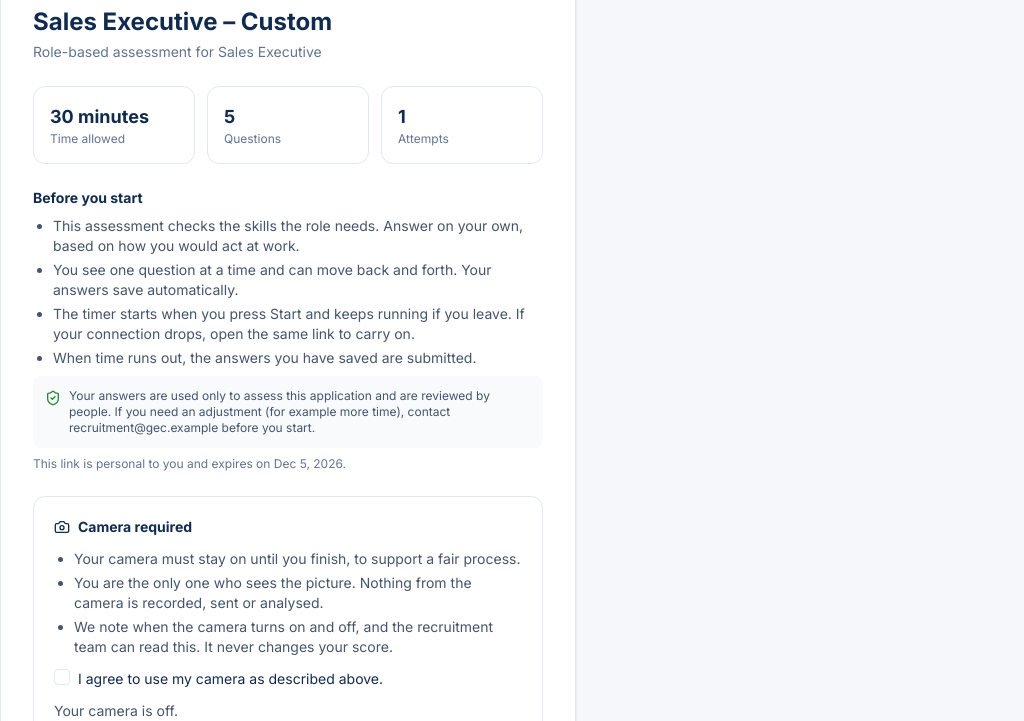
Test: Candidate pages › explains a blocked camera and offers another arrangement
The width and height of the screenshot is (1024, 721).
Step 1. Click the checkbox named "I agree to use my camera" → [62, 677], box x1=54 y1=669 x2=70 y2=685
(page scrolled)
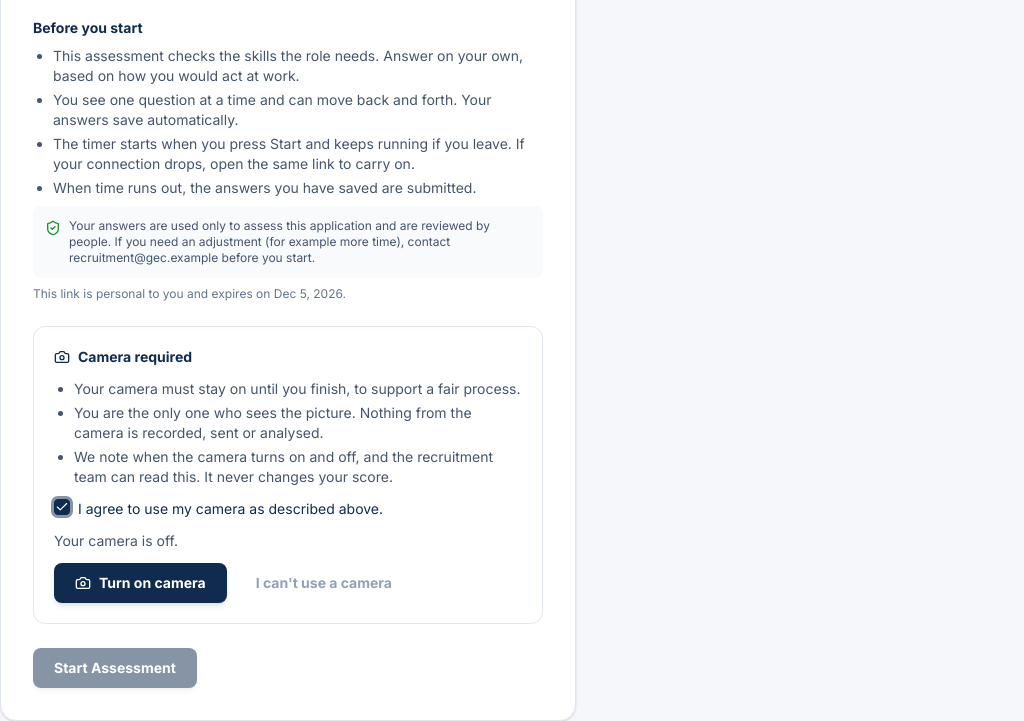
Step 2. Click the button "Turn on camera" → [140, 583], box x1=54 y1=563 x2=227 y2=603
(page scrolled)
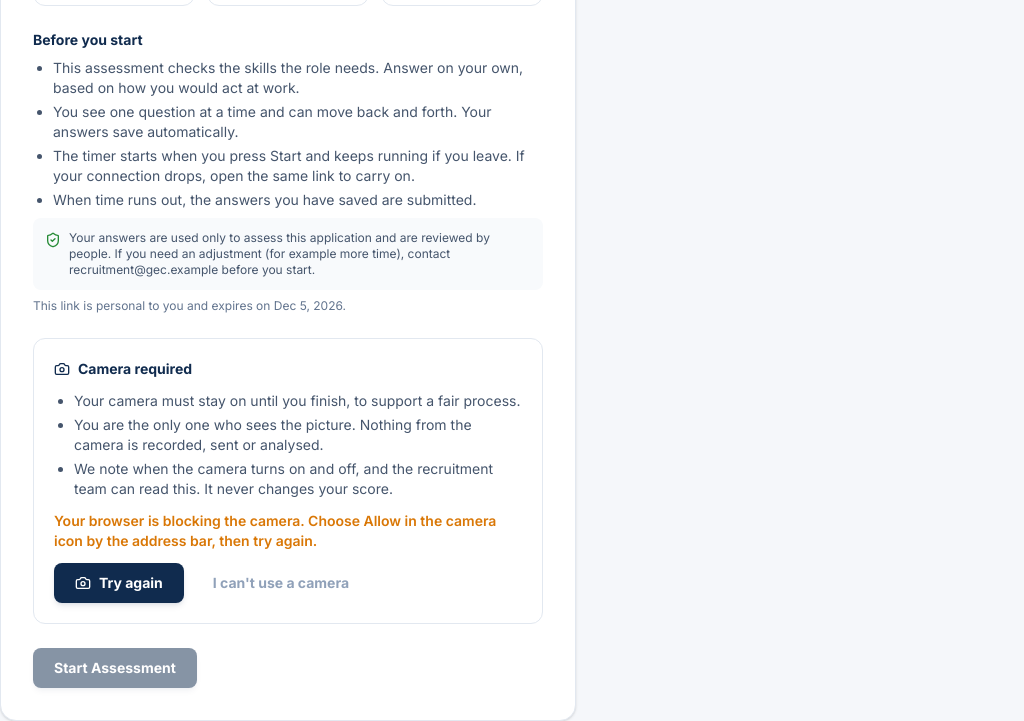
expect the text "browser is blocking the camera" is shown: met, box x1=54 y1=512 x2=496 y2=549
Step 3. Click the button "I can't use a camera" → [281, 583], box x1=192 y1=563 x2=370 y2=603
(page scrolled)
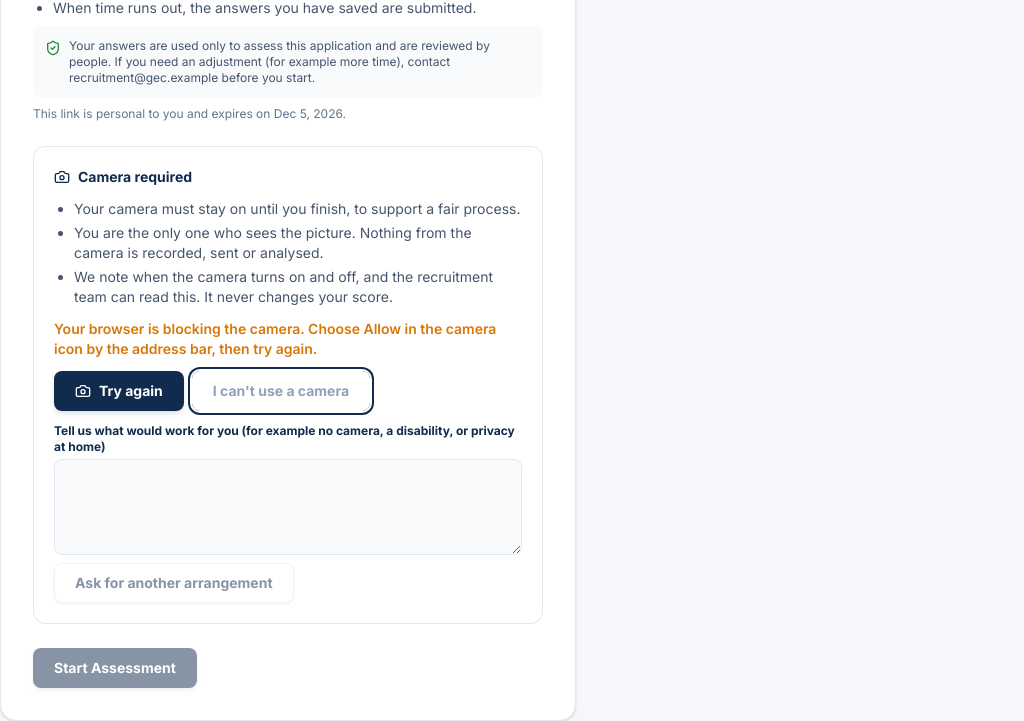
Step 4. Type "My laptop has none" into the text box → [288, 507], box x1=54 y1=459 x2=522 y2=555
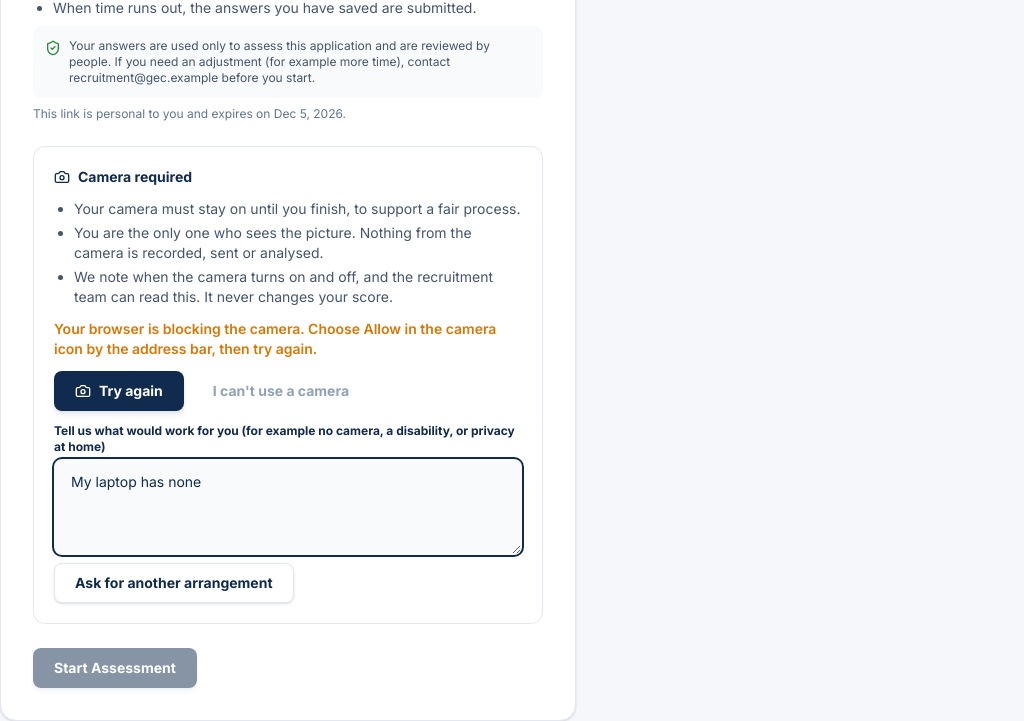
Step 5. Click the button "Ask for another arrangement" → [174, 583], box x1=54 y1=563 x2=294 y2=603
(page scrolled)
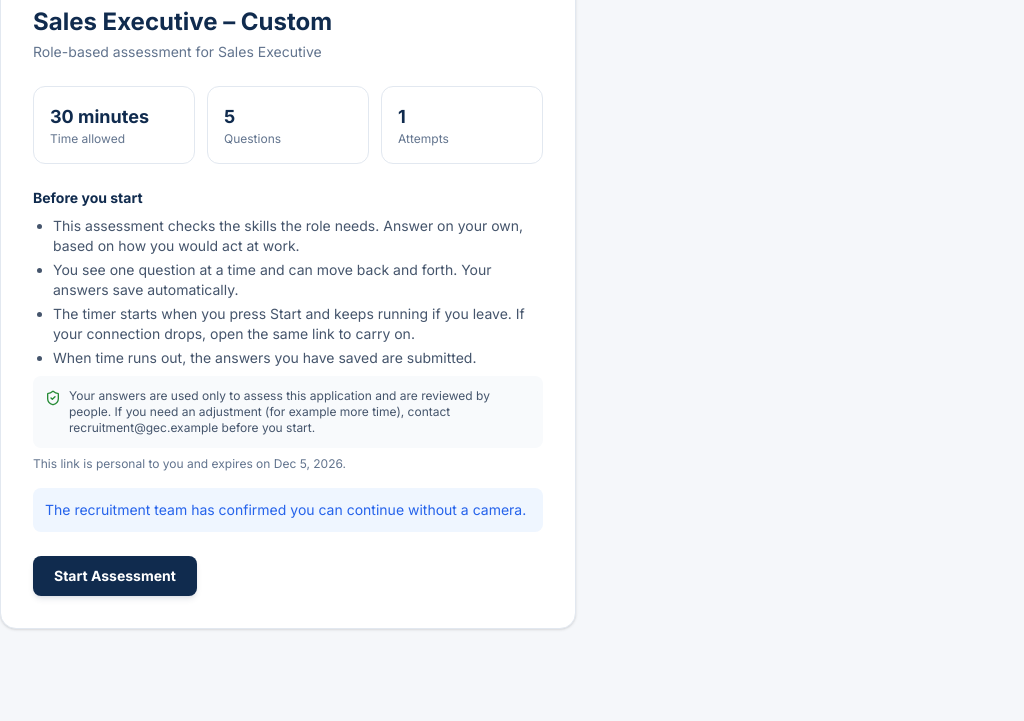
expect the button "Start Assessment" is enabled: met, box x1=33 y1=556 x2=197 y2=596
